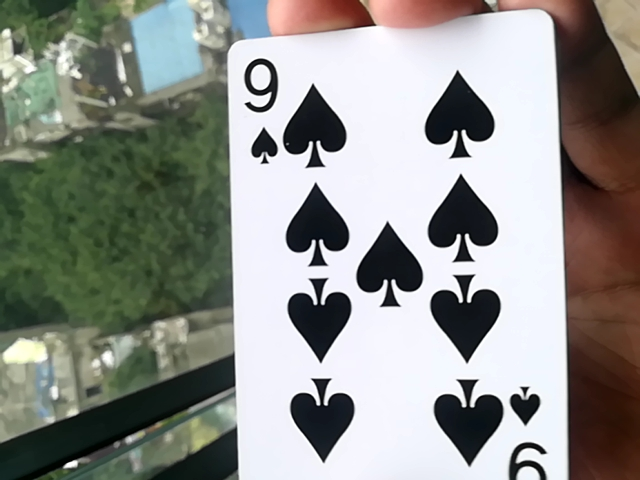ht 9: (218, 20, 571, 479)
